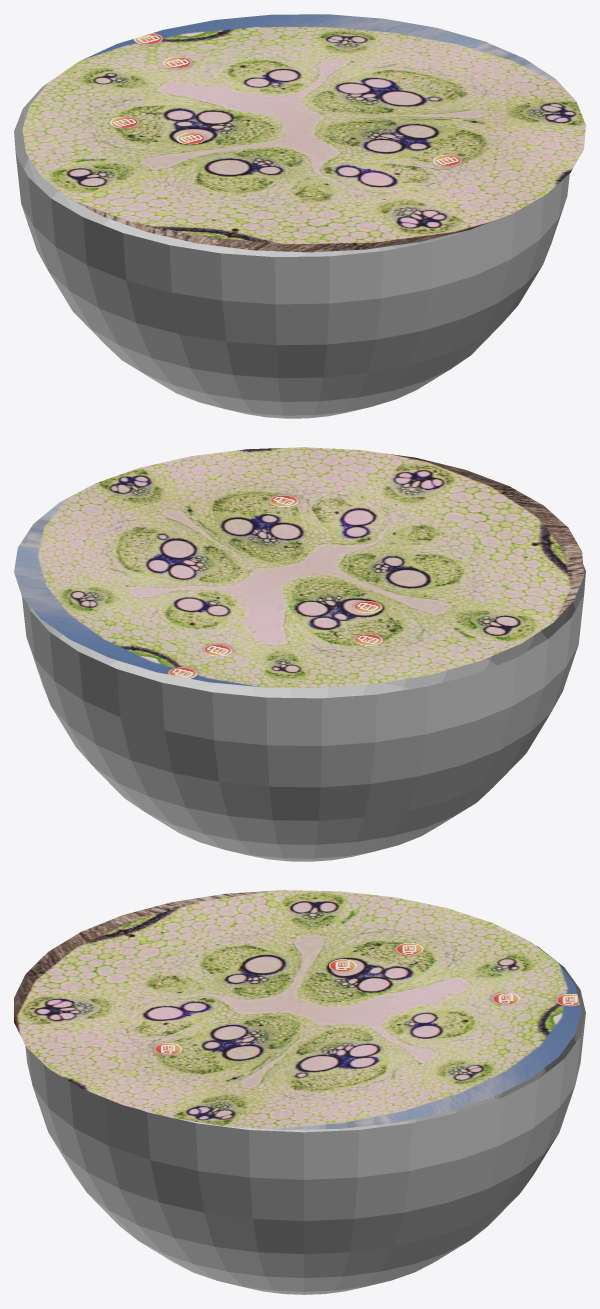
File: organ5.fbx
3 views of the same model, one above another, from view 1: azimuth 30°, elevation 25°; view 2: azimuth 150°, elevation 25°; view 3: azimuth 270°, elevation 25° (orthographic).
Parts seen in each view (by area): view 1: Akar-Diko-1; view 2: Akar-Diko-1; view 3: Akar-Diko-1.
Part boxes in pixels (left/top/right/bottom): Akar-Diko-1: left=14, top=14, right=585, bottom=418; Akar-Diko-1: left=14, top=447, right=585, bottom=861; Akar-Diko-1: left=14, top=890, right=585, bottom=1294.
Bounding box in the file's own units: 204 × 103 × 203.
